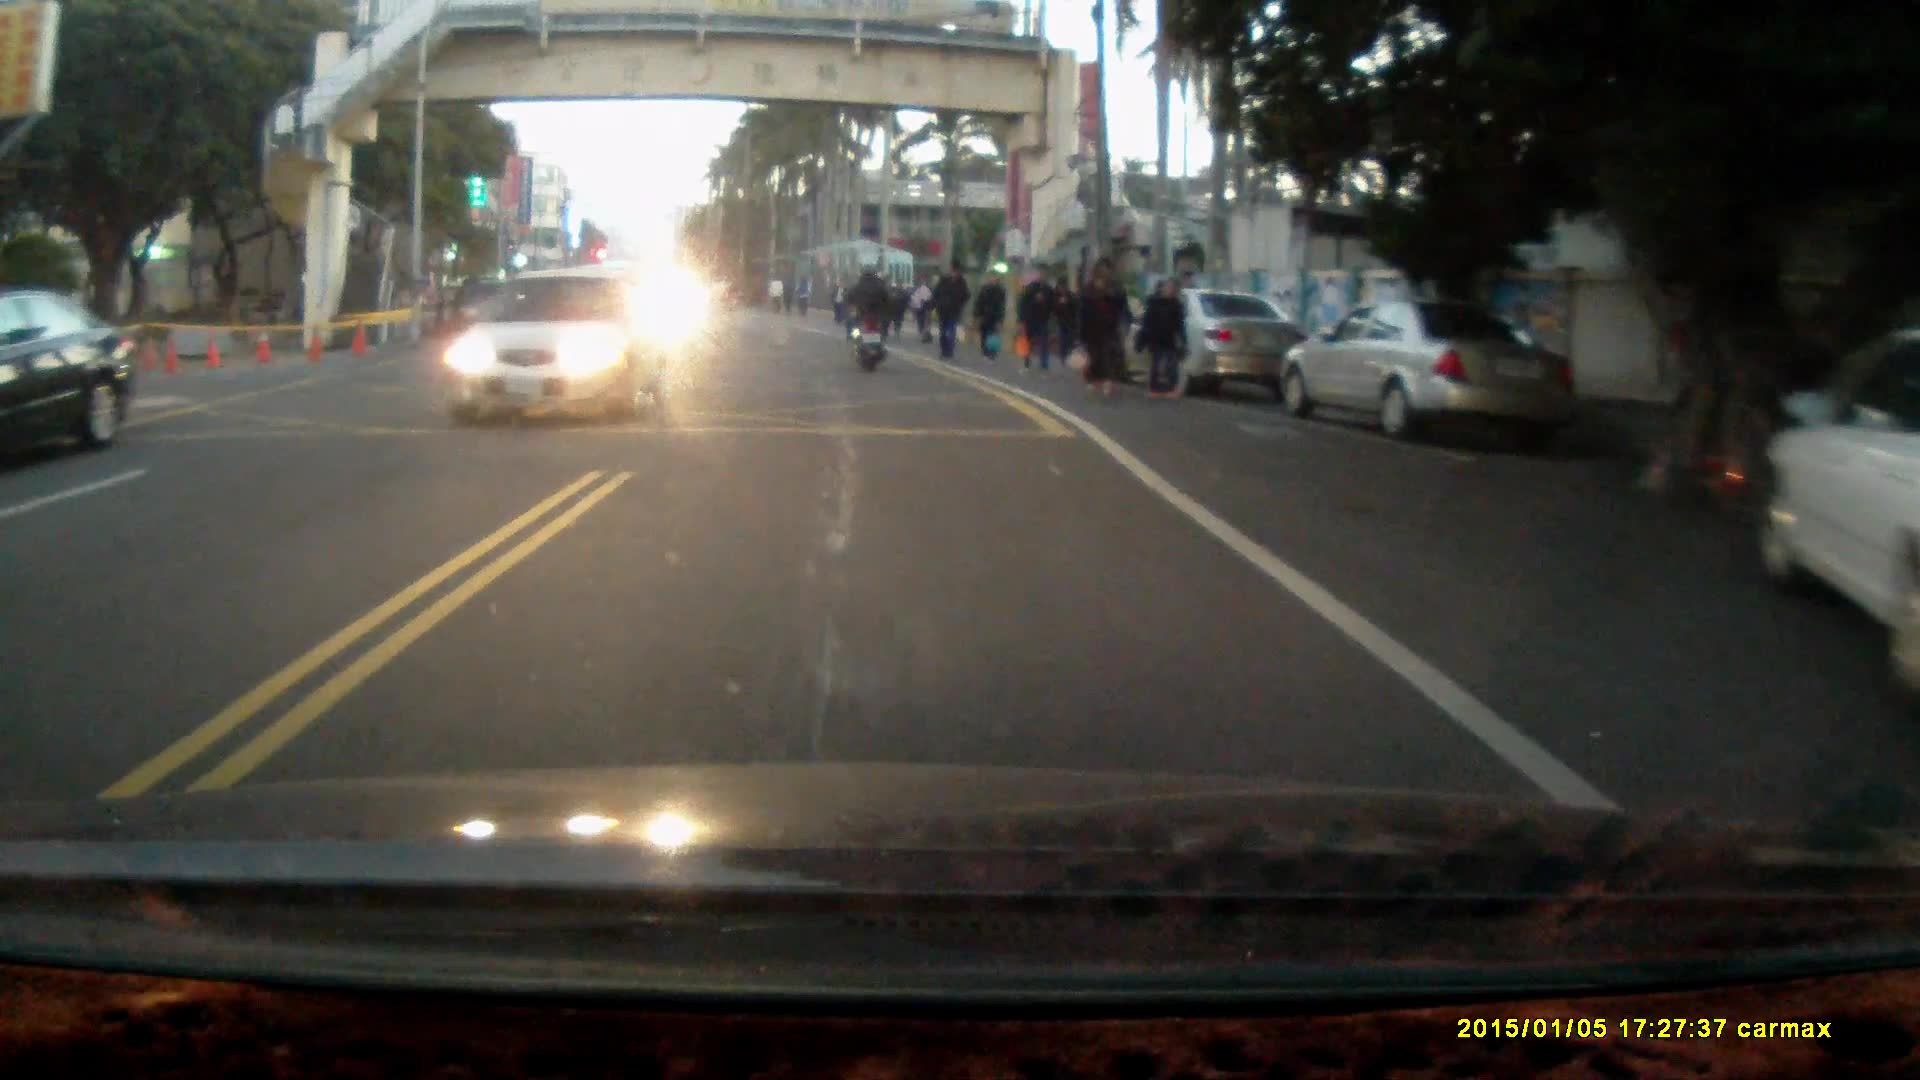pedestrian: (1139, 275, 1190, 404), (1078, 269, 1122, 400), (1016, 260, 1057, 376), (928, 261, 970, 366), (969, 271, 1008, 371)
rider: (842, 262, 896, 372)
vehicle: (1757, 337, 1920, 681), (1282, 299, 1584, 443), (436, 270, 672, 432), (1, 296, 142, 465), (1100, 293, 1315, 399)
